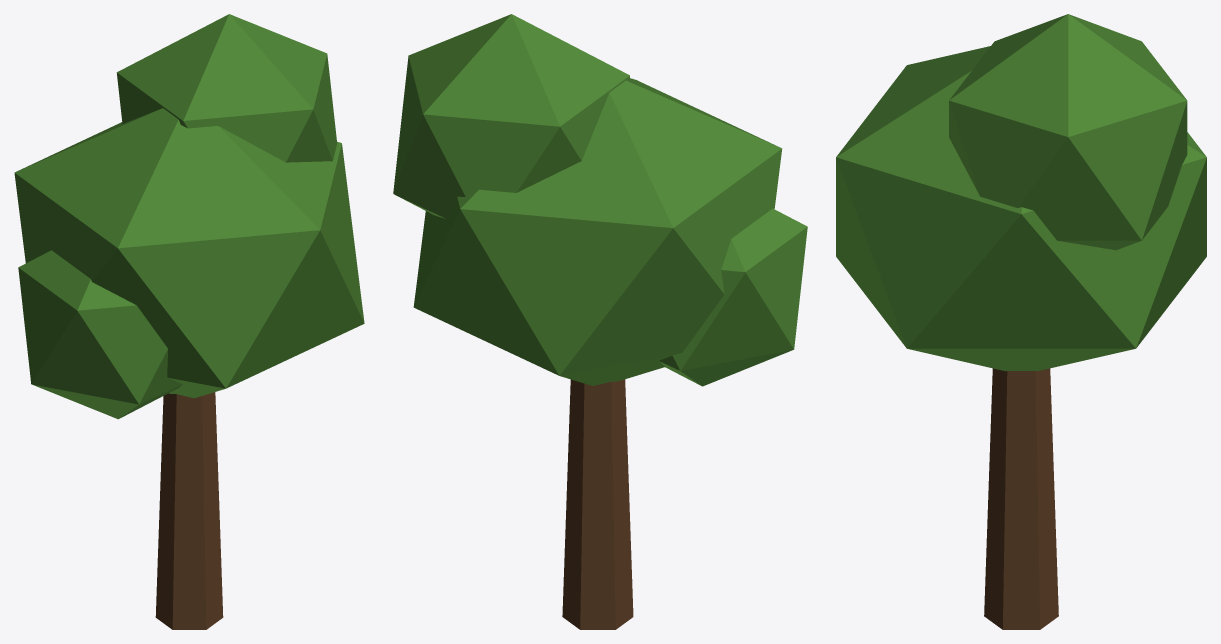
Rendered from oak.glb.
3 renders of one model, left to right at view 1: azimuth 30°, elevation 25°; view 2: azimuth 150°, elevation 25°; view 3: azimuth 270°, elevation 25°, orthographic. The views are drawn at different scales.
Parts seen in each view (by area): view 1: oak; view 2: oak; view 3: oak.
Part boxes in pixels (x1,y1,x2,y2): oak: (14,14,364,629); oak: (393,14,807,629); oak: (836,14,1206,629).
Bounding box in the file's own units: 2.72 × 4.5 × 2.38.
